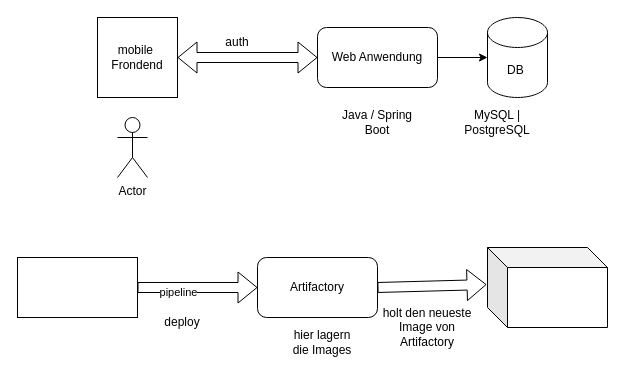
Some shapes in this 625 by 375 pixel diagram are drawn without their labels. The centre of each missing label's shape, as x and y in pixels:
App: the point at 77,287
Docker: the point at 547,287
